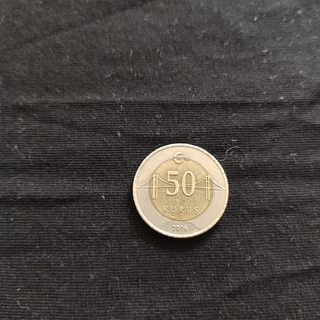50KURUS: (131, 141, 230, 240)
